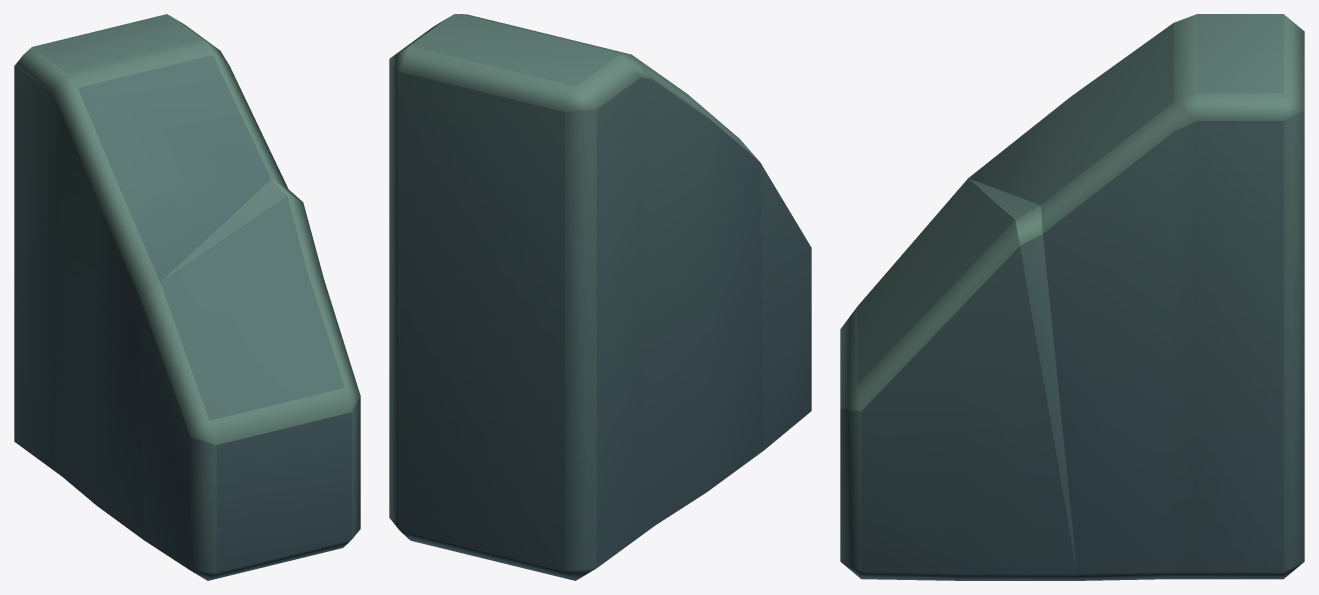
Rendered from stair_sidewall_shade_2_LOD_setup.fbx.
3 renders of one model, left to right at view 1: azimuth 30°, elevation 25°; view 2: azimuth 150°, elevation 25°; view 3: azimuth 270°, elevation 25°, orthographic. The views are drawn at different scales.
Visible parts, largest first — view 1: stair_sidewall_shade_2_LOD0; view 2: stair_sidewall_shade_2_LOD0; view 3: stair_sidewall_shade_2_LOD0.
Part boxes in pixels (x1,y1,x2,y2): stair_sidewall_shade_2_LOD0: (14, 14, 360, 580); stair_sidewall_shade_2_LOD0: (389, 14, 811, 580); stair_sidewall_shade_2_LOD0: (840, 14, 1304, 580).
Size of what is drawn, in the model's own units: 57.14 by 121 by 105.
